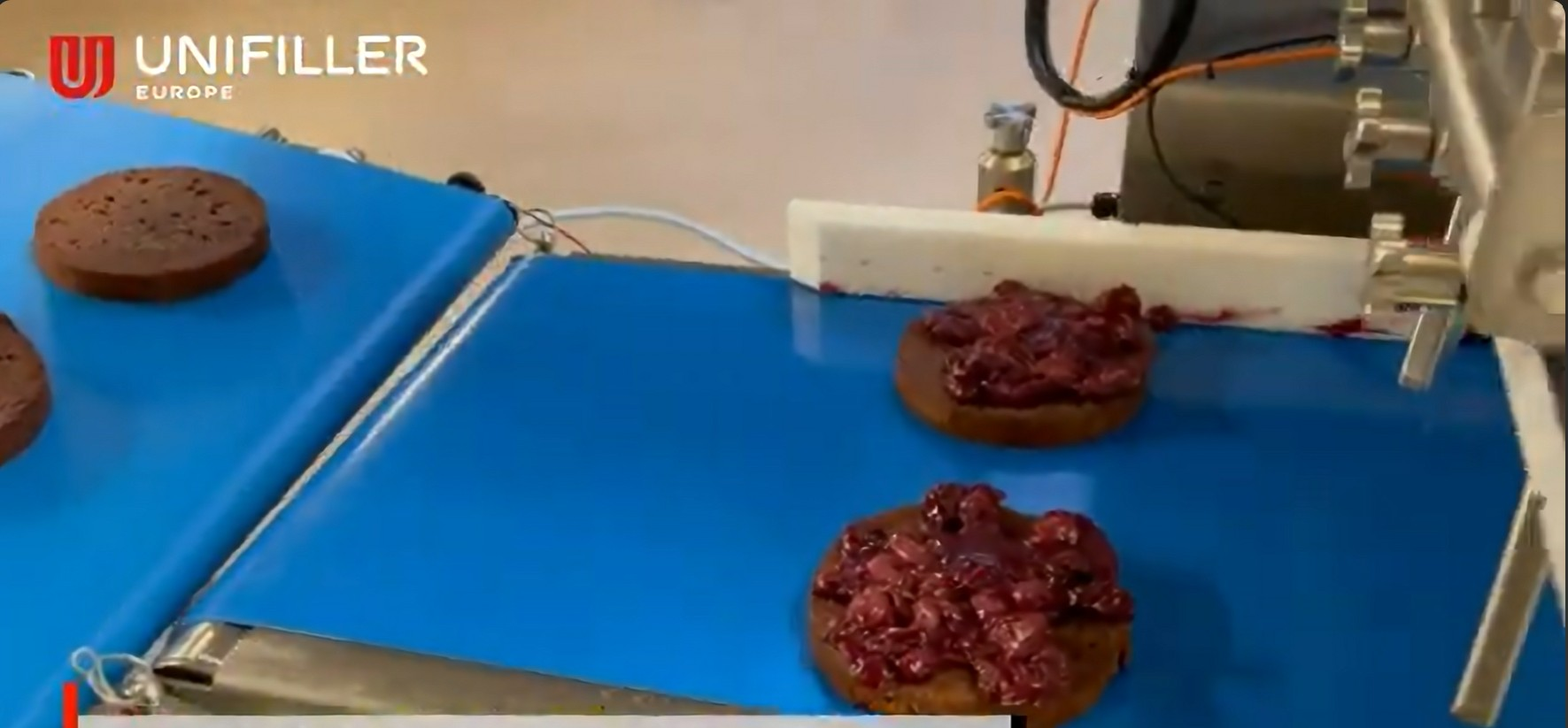Chocolate Cake: (31, 167, 274, 298), (0, 317, 55, 474)
Jam Coated: (809, 486, 1137, 726), (899, 285, 1146, 445)
